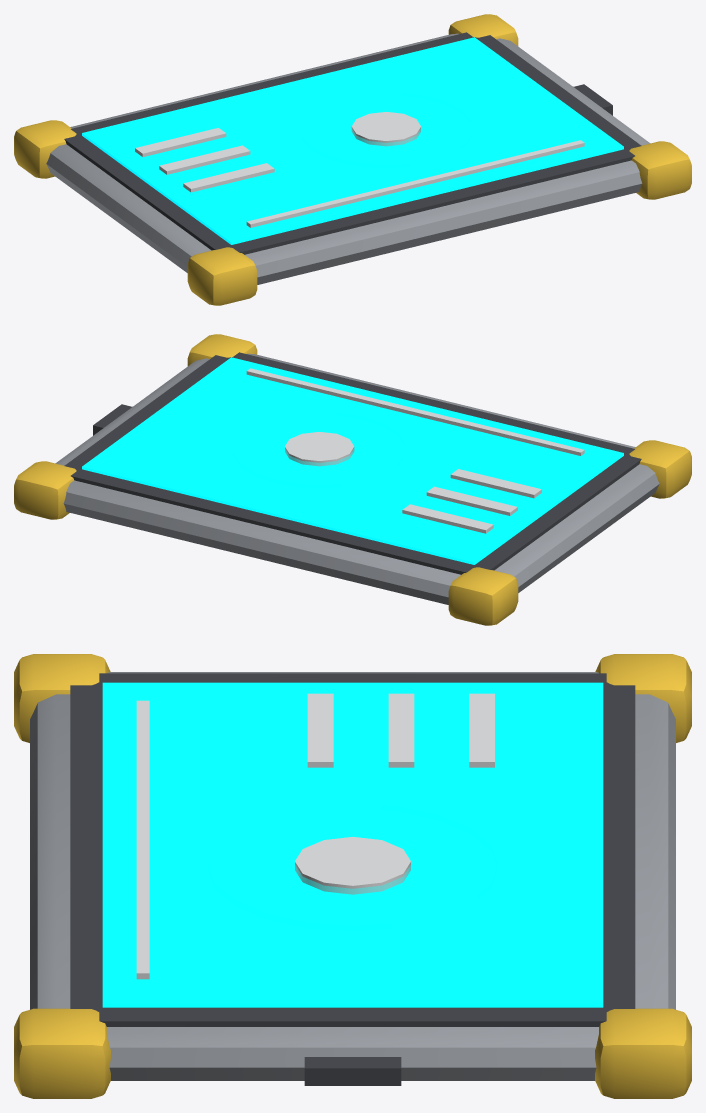
File: FV_Tool_Tablet.fbx
The picture shows the model from 3 angles, top to bottom: view 1: azimuth 30°, elevation 25°; view 2: azimuth 150°, elevation 25°; view 3: azimuth 270°, elevation 25°; orthographic projection. The views are drawn at different scales.
Visible parts, largest first — view 1: Tool_Tablet; view 2: Tool_Tablet; view 3: Tool_Tablet.
Part boxes in pixels (x1,y1,x2,y2): Tool_Tablet: (14, 14, 691, 305); Tool_Tablet: (14, 334, 691, 625); Tool_Tablet: (14, 654, 691, 1098).
Size of the model in its own units: 0.292 by 0.0255 by 0.21.
